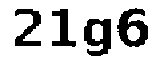1: (49, 6, 77, 52)
2: (9, 3, 42, 49)
6: (116, 4, 152, 53)
g: (79, 14, 113, 60)
